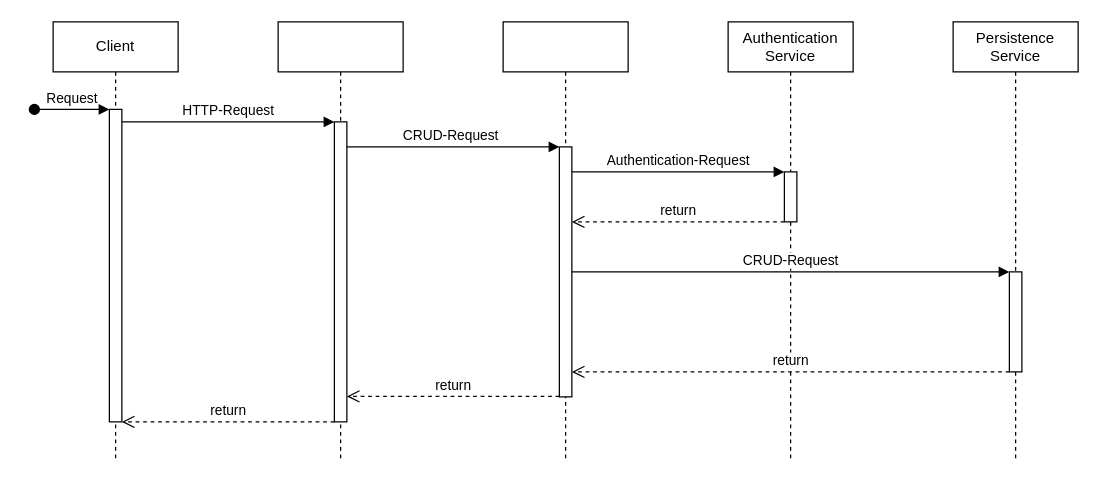
Image size: 1100x481. Some labels were removed from this diagram. Here are the shapes that lost their labels. From the top down, the box of each, then its label:
(277, 21, 403, 459): Application Service
(502, 21, 628, 459): RabbitMQ
